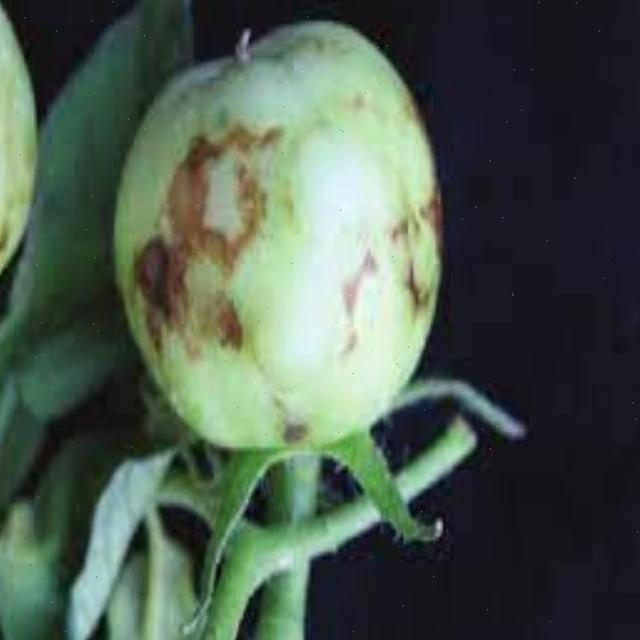Spotted wilt Virus Fruit: (149, 106, 441, 242)
